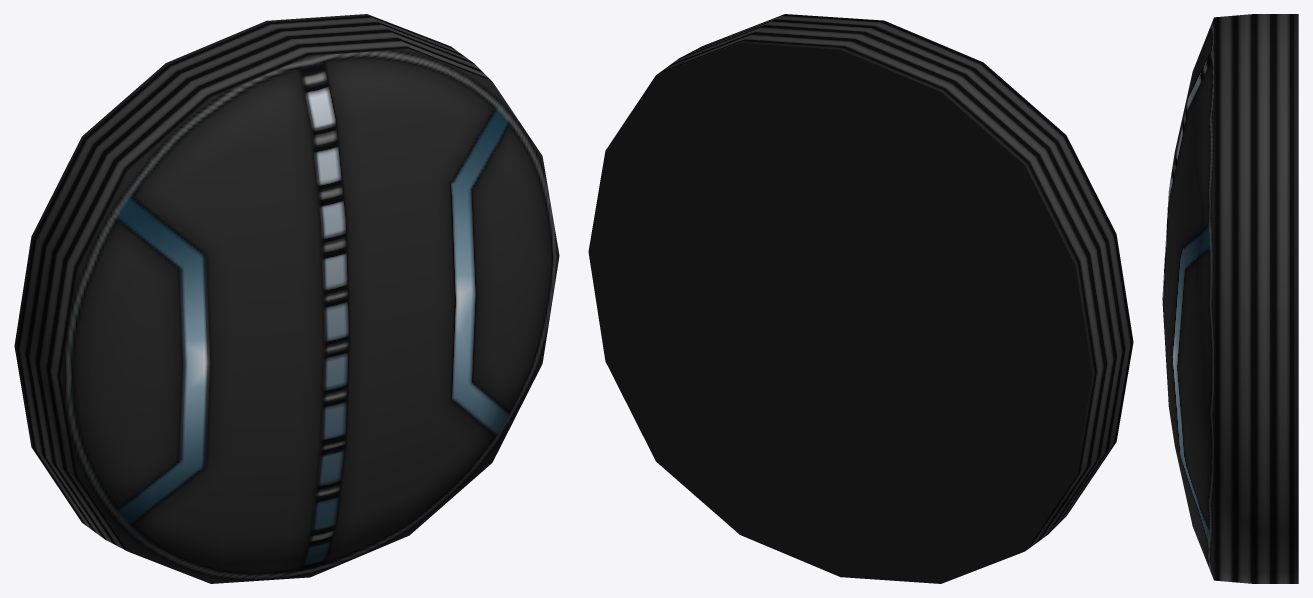
File: Thief_SAP_Antenna.fbx
The picture shows the model from 3 angles, left to right: view 1: azimuth 30°, elevation 25°; view 2: azimuth 150°, elevation 25°; view 3: azimuth 270°, elevation 25°; orthographic projection. The views are drawn at different scales.
Visible parts, largest first — view 1: Theif_SAP_Antenna; view 2: Theif_SAP_Antenna; view 3: Theif_SAP_Antenna.
Boxes of the visible parts, left/top/right/bottom form: Theif_SAP_Antenna: left=14, top=14, right=559, bottom=583; Theif_SAP_Antenna: left=588, top=14, right=1133, bottom=583; Theif_SAP_Antenna: left=1162, top=14, right=1298, bottom=583.
Bounding box in the file's own units: 1.07 × 1.07 × 0.2601.
